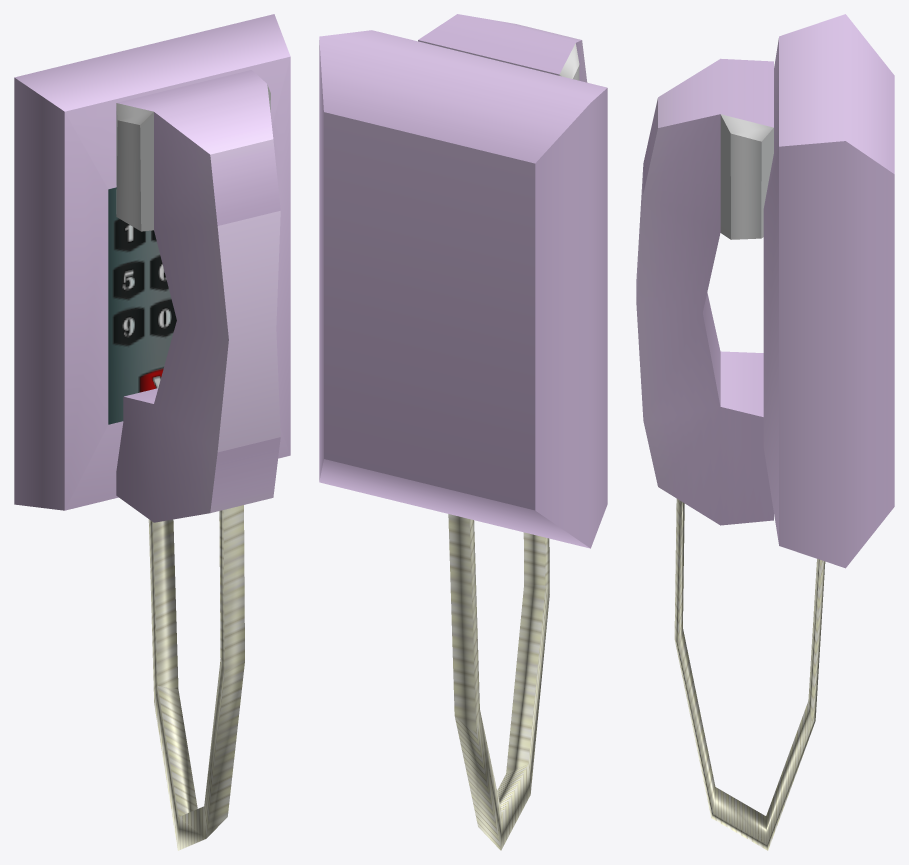
Rendered from Wall_Phone_B.FBX.
The picture shows the model from 3 angles, left to right: view 1: azimuth 30°, elevation 25°; view 2: azimuth 150°, elevation 25°; view 3: azimuth 270°, elevation 25°; orthographic projection. The views are drawn at different scales.
Visible parts, largest first — view 1: Wall_Phone; view 2: Wall_Phone; view 3: Wall_Phone.
Part boxes in pixels (<box>): Wall_Phone: <box>14,14,290,850</box>; Wall_Phone: <box>319,14,607,850</box>; Wall_Phone: <box>636,14,894,850</box>.
Bounding box in the file's own units: 57.35 × 163 × 49.28.
